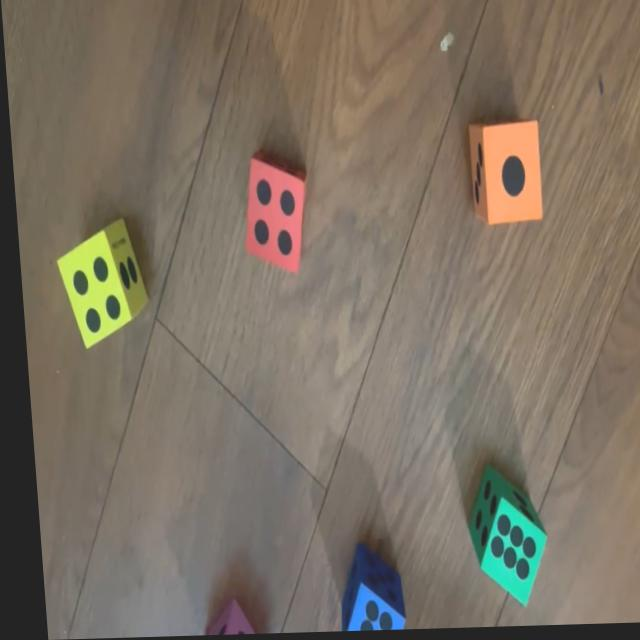blue_block: (329, 547, 397, 633)
red_block: (234, 152, 309, 277)
